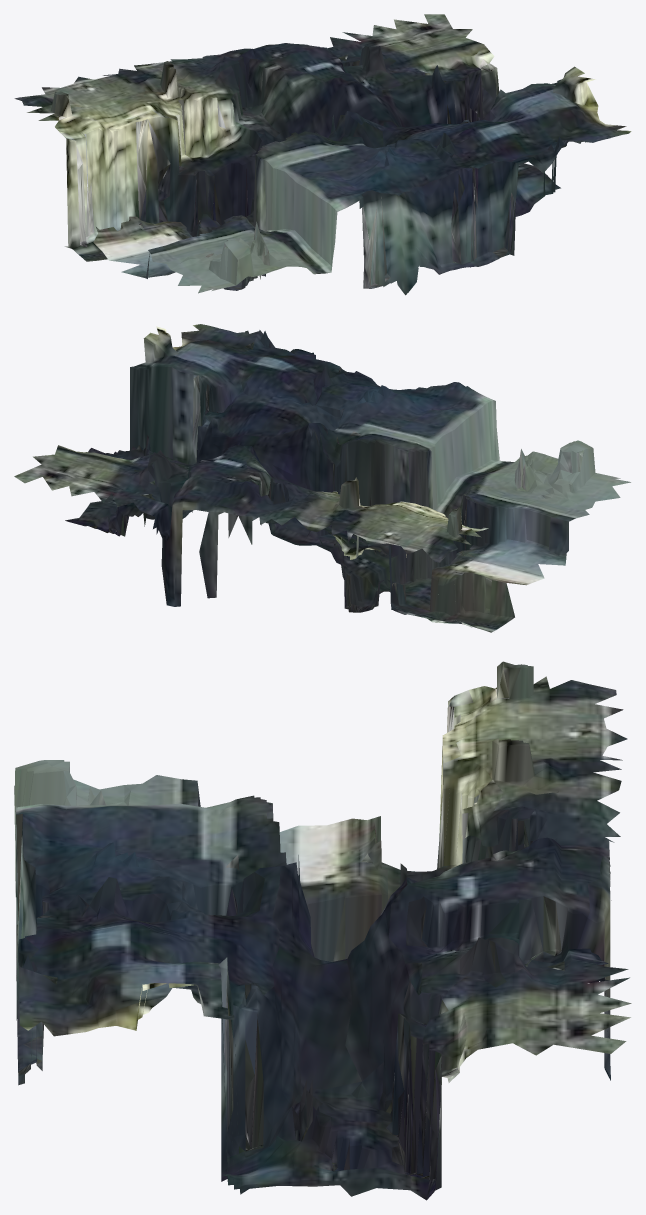
Rendered from Tile_000_003_L14_4111.glb.
3 renders of one model, top to bottom at view 1: azimuth 30°, elevation 25°; view 2: azimuth 150°, elevation 25°; view 3: azimuth 270°, elevation 25°, orthographic. The views are drawn at different scales.
Parts seen in each view (by area): view 1: rtc; view 2: rtc; view 3: rtc.
Part boxes in pixels (x1=…): rtc: x1=14, y1=14, x2=631, y2=295; rtc: x1=14, y1=324, x2=630, y2=632; rtc: x1=14, y1=661, x2=631, y2=1200.
Size of the model in its own units: 67.06 by 23.68 by 50.6.
Materials: 1 (1 with a texture image).
